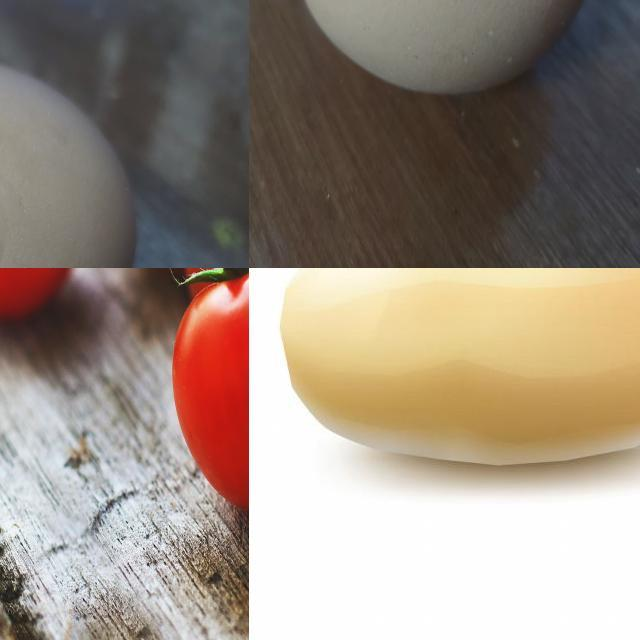egg: (291, 1, 605, 105), (1, 51, 150, 269)
potato: (285, 269, 640, 465)
tomato: (174, 269, 250, 516)
